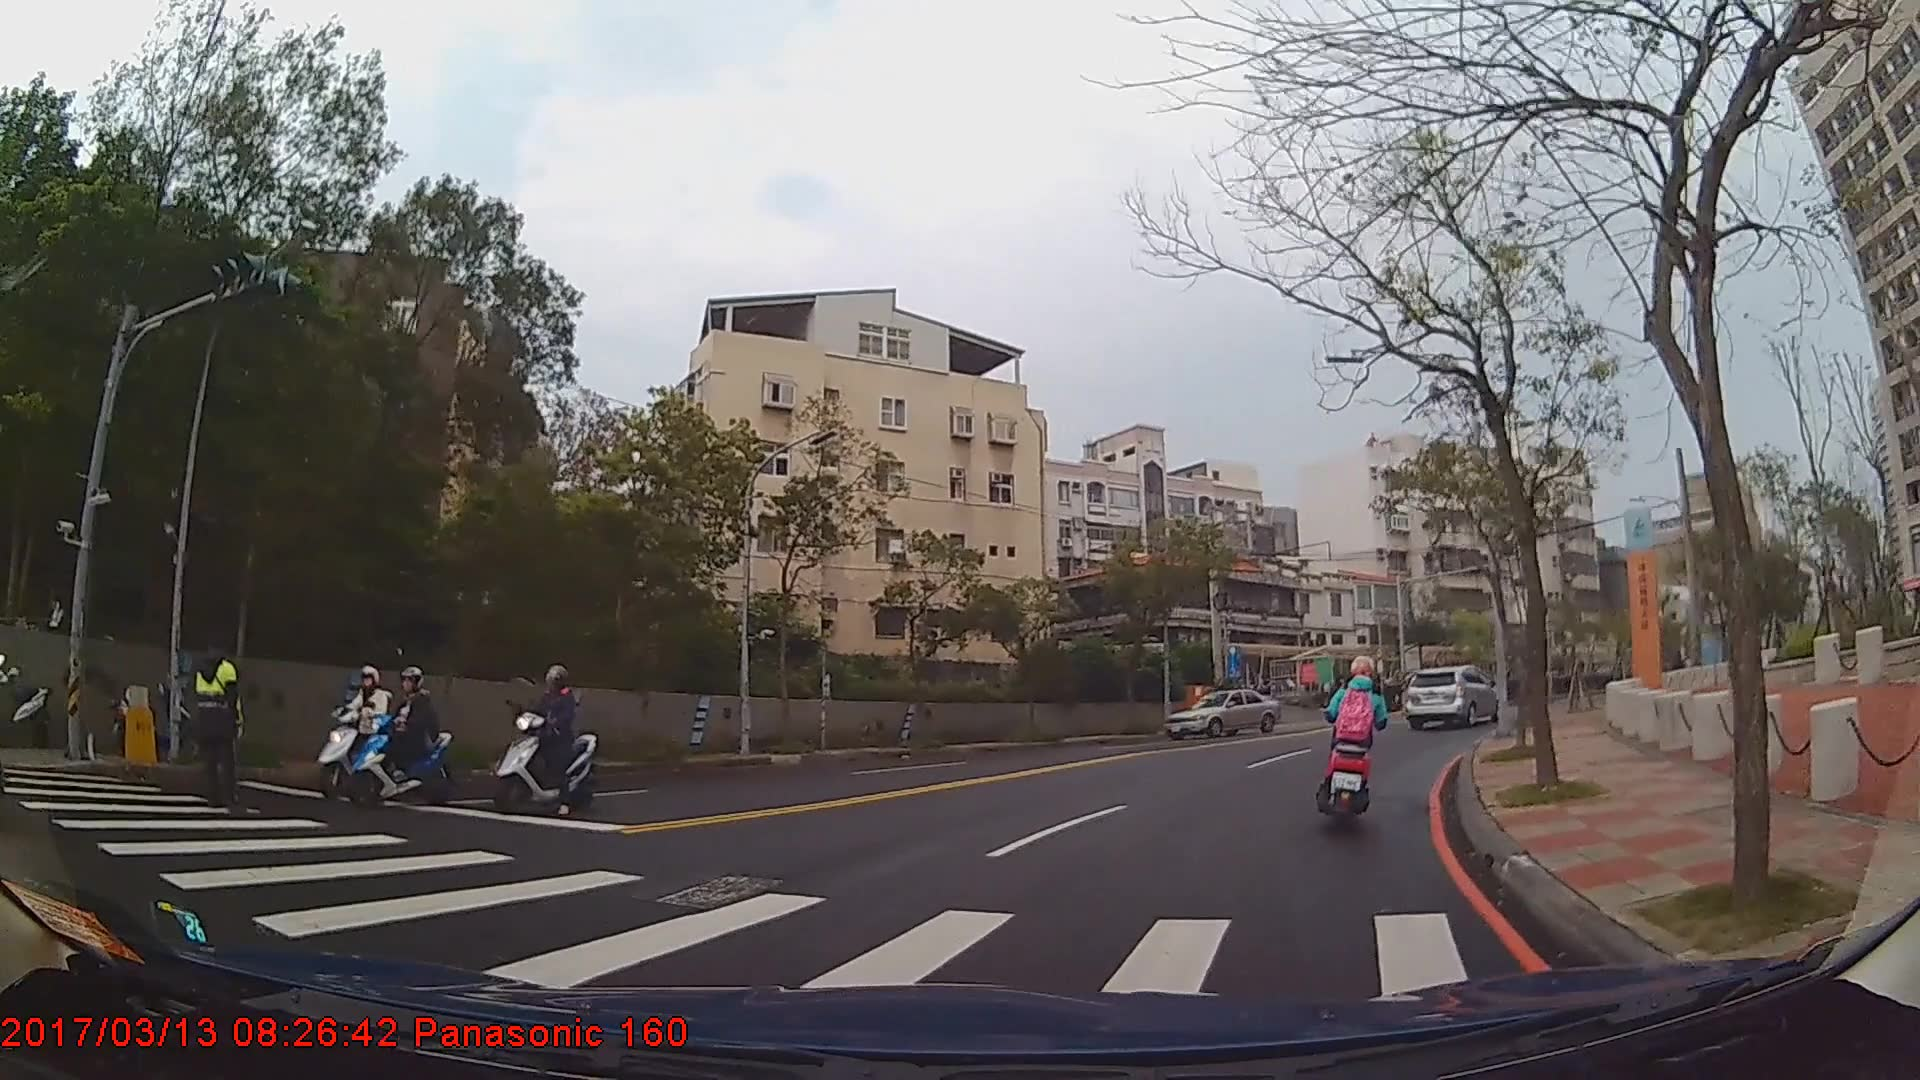pedestrian: (187, 630, 247, 807)
rider: (486, 667, 600, 818), (359, 665, 447, 801), (317, 662, 406, 792), (1319, 658, 1387, 818)
vehicle: (1160, 687, 1279, 740), (1406, 663, 1496, 727)
